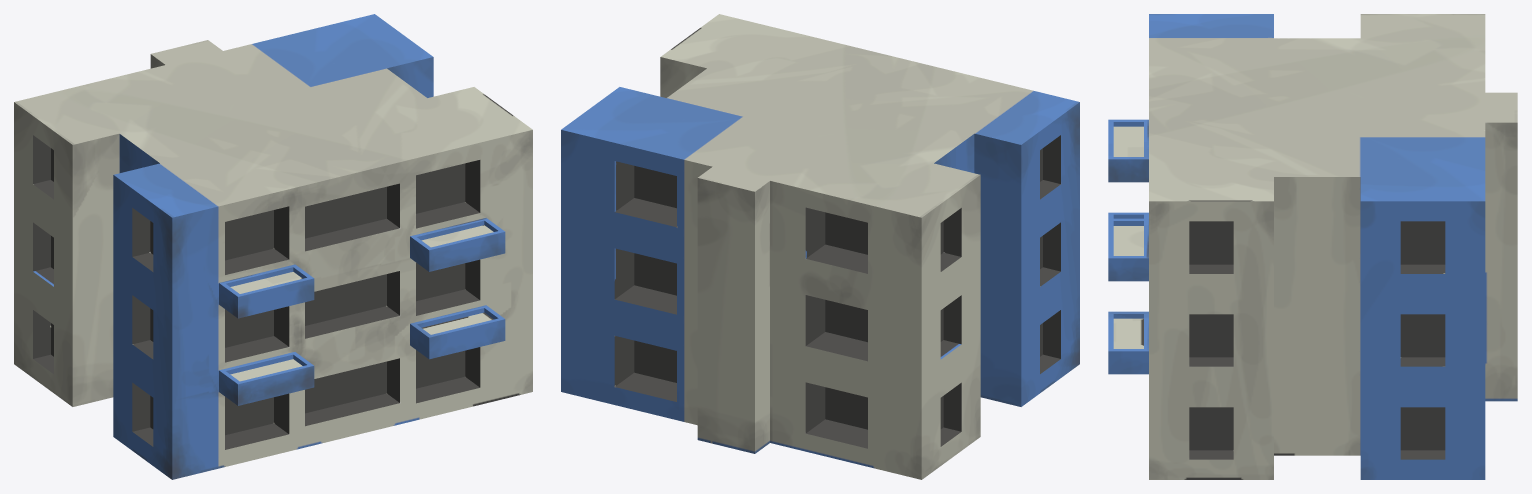
The model's file is Build7.fbx.
3 renders of one model, left to right at view 1: azimuth 30°, elevation 25°; view 2: azimuth 150°, elevation 25°; view 3: azimuth 270°, elevation 25°, orthographic. The views are drawn at different scales.
Parts seen in each view (by area): view 1: Build7; view 2: Build7; view 3: Build7.
Boxes of the visible parts, left/top/right/bottom form: Build7: left=14, top=14, right=532, bottom=479; Build7: left=561, top=14, right=1079, bottom=479; Build7: left=1108, top=14, right=1517, bottom=479.
Size of the model in its own units: 5400 by 3750 by 4989.
1 material, 1 textured.
